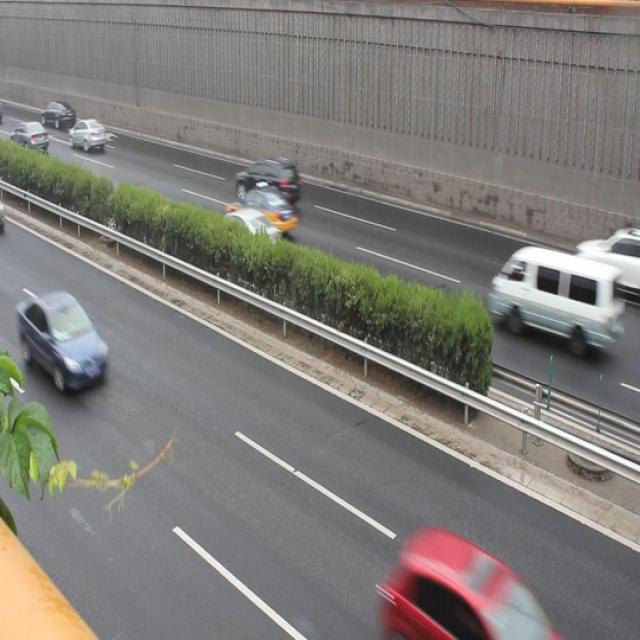car: (391, 532, 558, 640), (16, 290, 110, 391), (573, 224, 640, 300), (211, 209, 281, 262), (225, 187, 296, 230), (236, 156, 299, 203)
truck: (488, 247, 614, 363)
